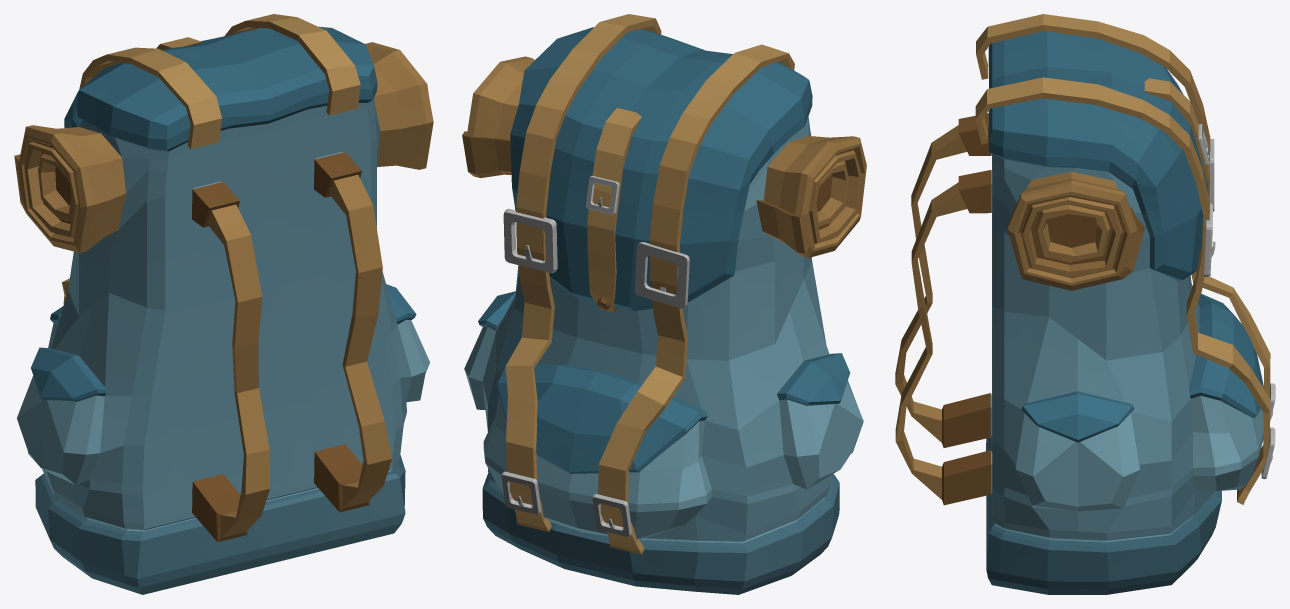
The model's file is backpack_big.glb.
3 views of the same model, side by side, from view 1: azimuth 30°, elevation 25°; view 2: azimuth 150°, elevation 25°; view 3: azimuth 270°, elevation 25° (orthographic). The views are drawn at different scales.
Parts seen in each view (by area): view 1: backpack_big, backpack_strap; view 2: backpack_big, backpack_strap, backpack_strap_small, backpack_buckle_2, backpack_buckle_1, backpack_buckle_3, backpack_buckle_4, backpack_buckle_small; view 3: backpack_big, backpack_strap, backpack_strap_small, backpack_buckle_1.
Boxes of the visible parts, x1,y1,x2,y2 form: backpack_big: (14, 26, 433, 594); backpack_strap: (62, 14, 360, 304); backpack_big: (462, 27, 866, 594); backpack_strap: (505, 14, 794, 554); backpack_strap_small: (587, 108, 641, 312); backpack_buckle_2: (634, 242, 689, 308); backpack_buckle_1: (503, 208, 557, 272); backpack_buckle_3: (501, 471, 541, 514); backpack_buckle_4: (592, 494, 632, 536); backpack_buckle_small: (585, 176, 619, 214); backpack_big: (895, 31, 1264, 594); backpack_strap: (975, 14, 1270, 504); backpack_strap_small: (1144, 78, 1209, 197); backpack_buckle_1: (1203, 203, 1215, 276).
Bounding box in the file's own units: 0.6742 × 0.894 × 0.6307.
Materials: 1 (1 with a texture image).
